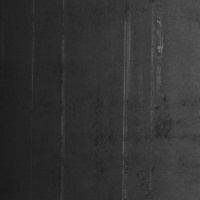scratches: (58, 13, 70, 192), (120, 15, 134, 163), (146, 7, 166, 109)
